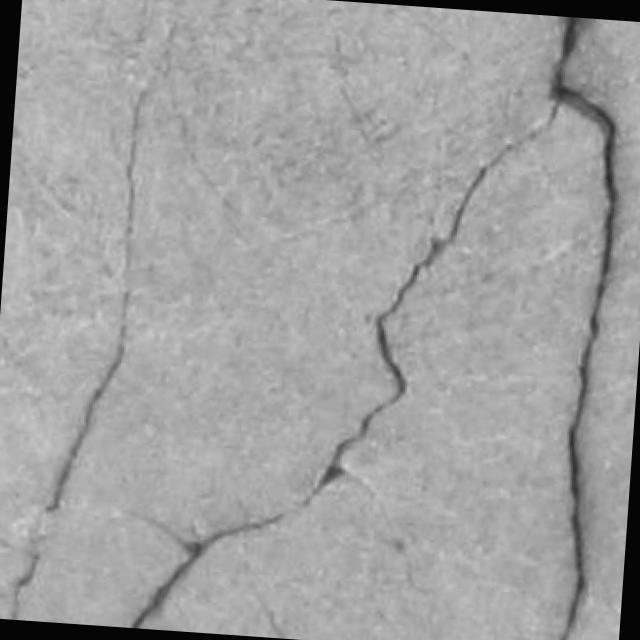crack: (131, 17, 582, 628), (131, 116, 552, 628), (45, 86, 149, 514), (553, 17, 618, 639)
